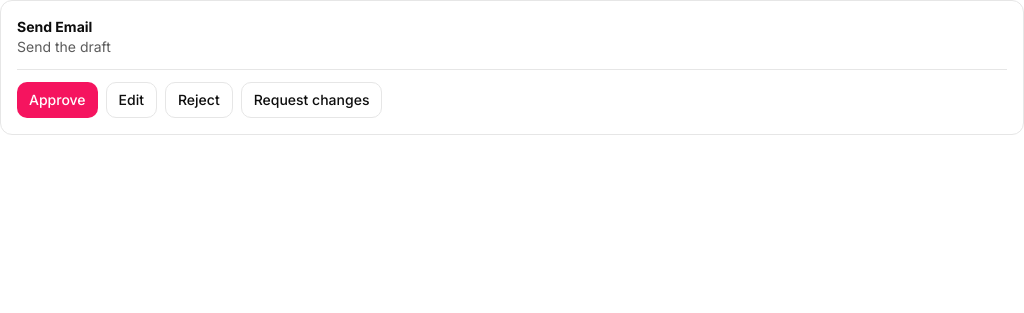
ApprovalCard › keeps the JSON editor and no edit-fields heading without edit fields
Click the button "Edit". click: point(131, 100)
box: [106,82,157,118]
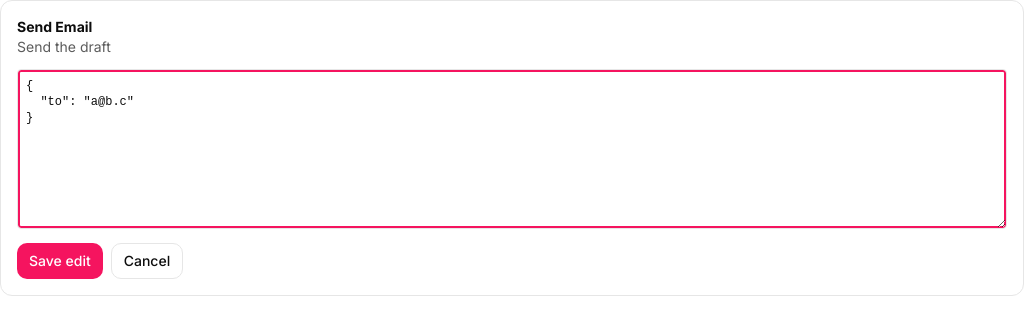
Result: the text box named "Edited arguments JSON" is shown at [17,69,1007,229]
Result: the button "Save edit" is shown at [17,243,103,279]
